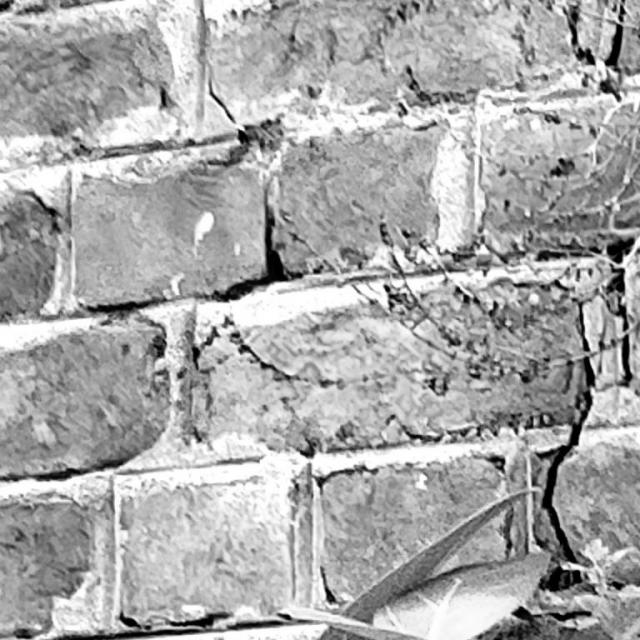crack: (541, 237, 640, 620), (562, 1, 628, 102)
